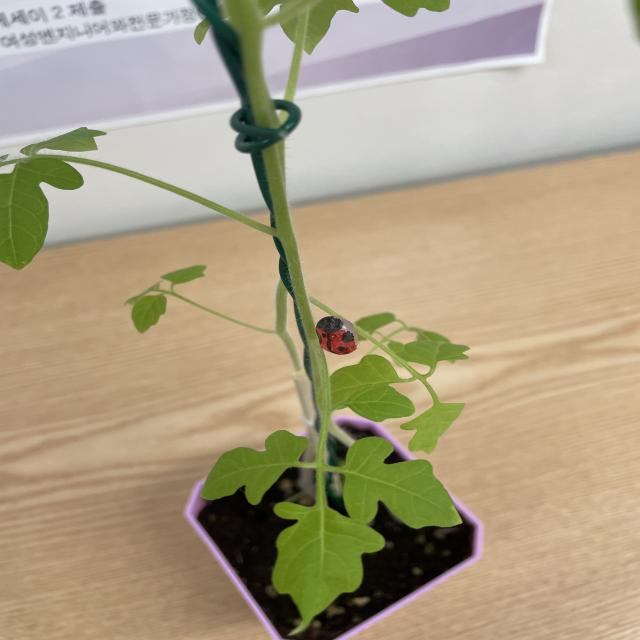bug: (284, 302, 379, 371)
